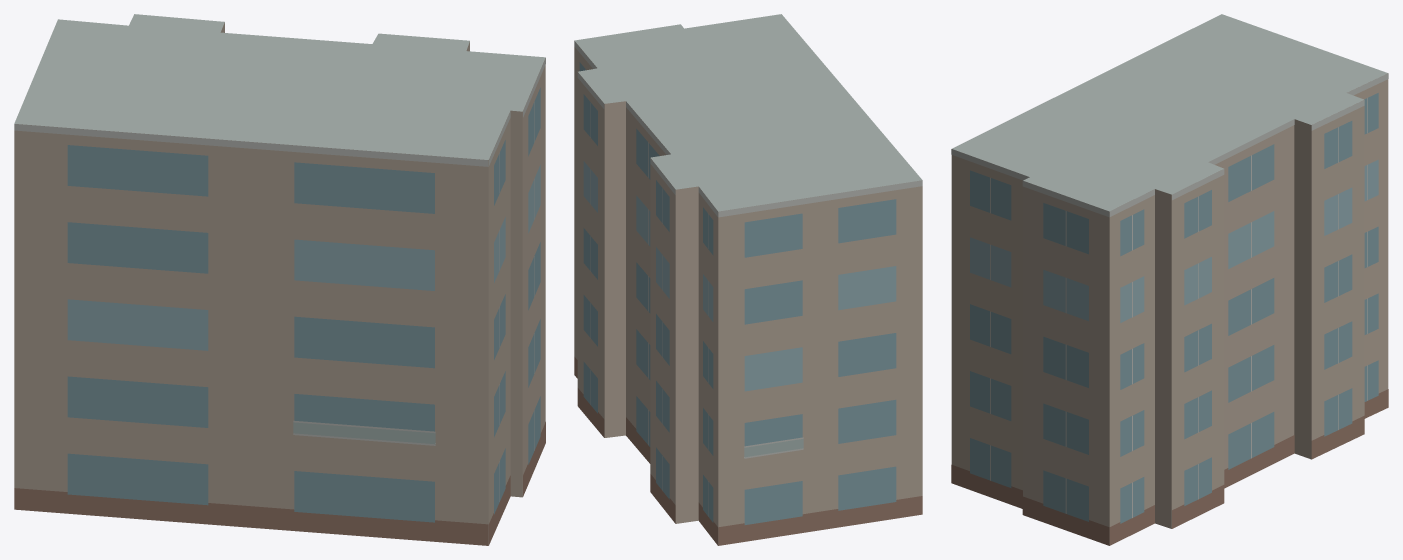
The model's file is survey-upis-32708751.glb.
3 renders of one model, left to right at view 1: azimuth 30°, elevation 25°; view 2: azimuth 150°, elevation 25°; view 3: azimuth 270°, elevation 25°, orthographic. The views are drawn at different scales.
Parts seen in each view (by area): view 1: survey-upis-32708751.tmp; view 2: survey-upis-32708751.tmp; view 3: survey-upis-32708751.tmp.
Boxes of the visible parts, x1,y1,x2,y2 form: survey-upis-32708751.tmp: (14,14,545,545); survey-upis-32708751.tmp: (574,14,922,545); survey-upis-32708751.tmp: (951,14,1388,545).
Size of the model in its own units: 17.61 by 13.9 by 16.46.
